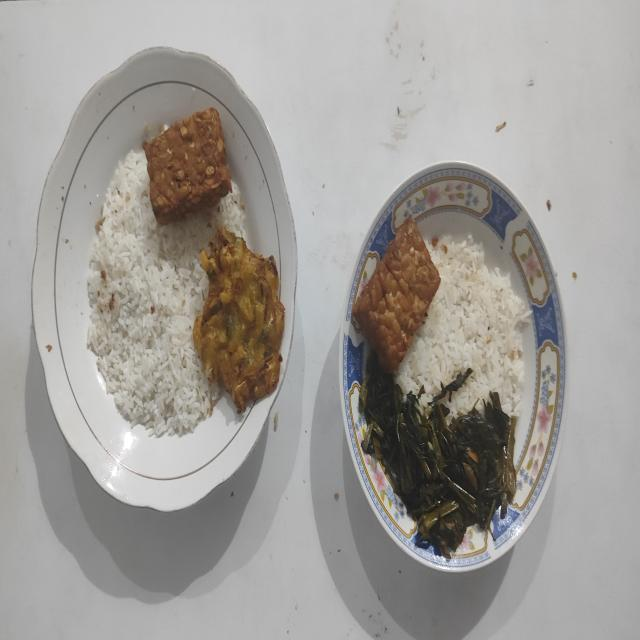nasi_putih: (86, 151, 245, 437), (394, 235, 525, 417)
tempe_goreng: (352, 218, 441, 372), (144, 108, 232, 224)
tumis_kangkung: (359, 352, 516, 558)
